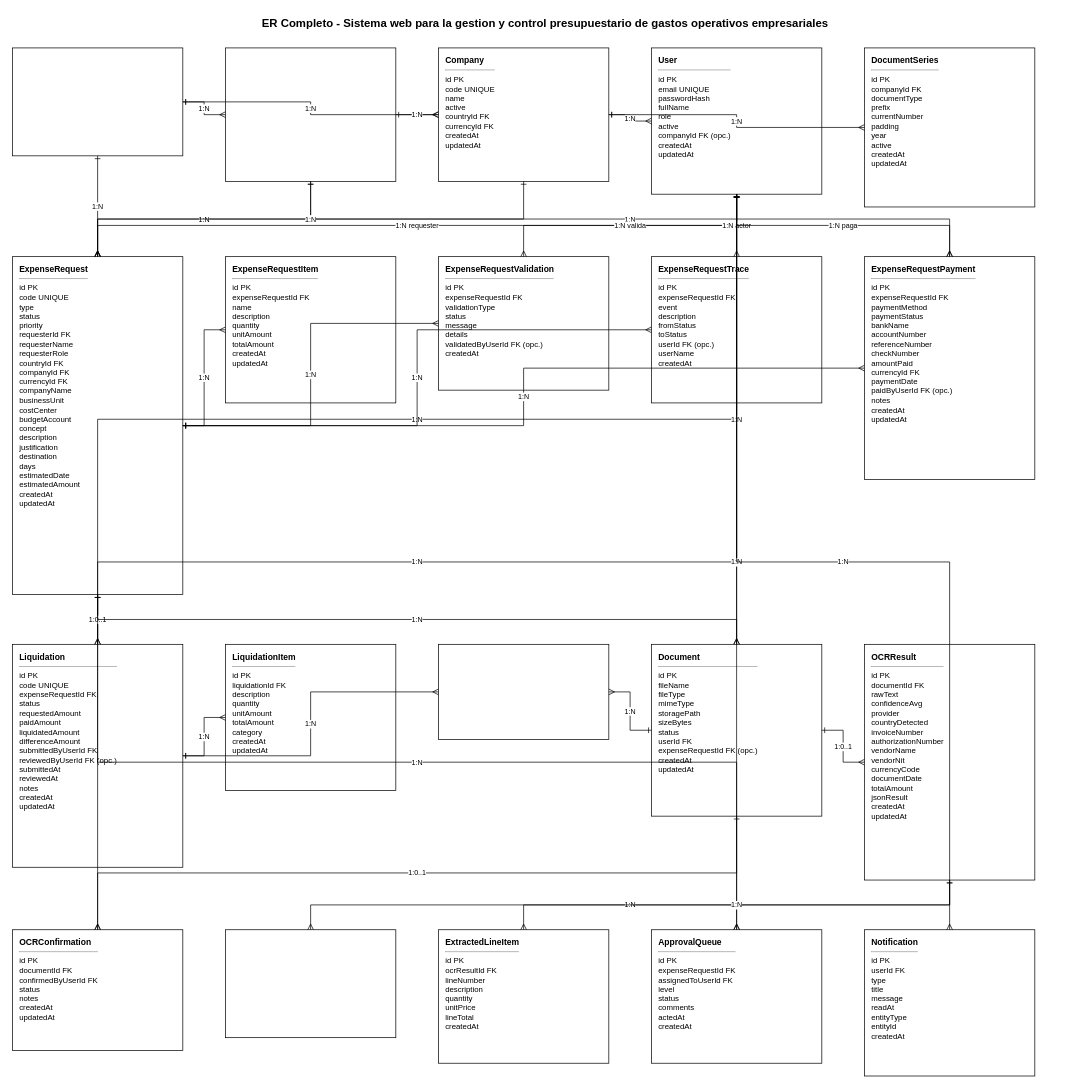
The diagram is 1090 pixels wide and 1088 high, and some of its shapes have lost their labels. Here are the shapes that lost their labels. From the top down, the box of each, then its label:
(12, 47, 183, 156): Country id PK code UNIQUE name active createdAt updatedAt
(225, 47, 396, 181): Currency id PK code UNIQUE name symbol active countryId FK createdAt updatedAt
(438, 644, 609, 739): LiquidationDocument id PK liquidationId FK documentId FK notes createdAt
(225, 929, 396, 1038): ExtractedField id PK ocrResultId FK fieldName fieldValue confidence createdAt
